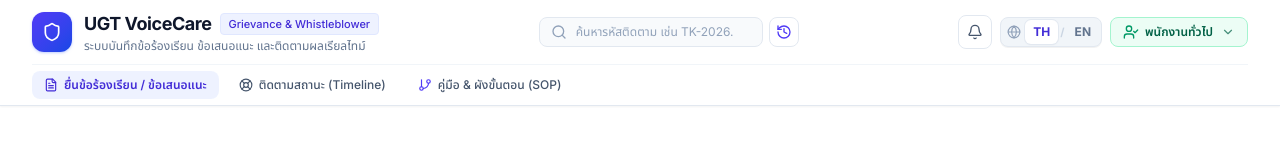
Scenario: Navbar › switches the UI language with the TH/EN switcher
Click the button "EN".
click(1083, 32)  # box [1067,20,1099,44]
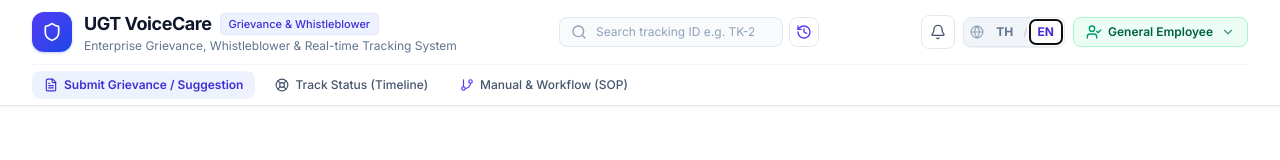
Now the text "Submit Grievance / Suggestion" is shown, box [64,77,243,93]
Now the button "ยื่นข้อร้องเรียน / ข้อเสนอแนะ" is gone
